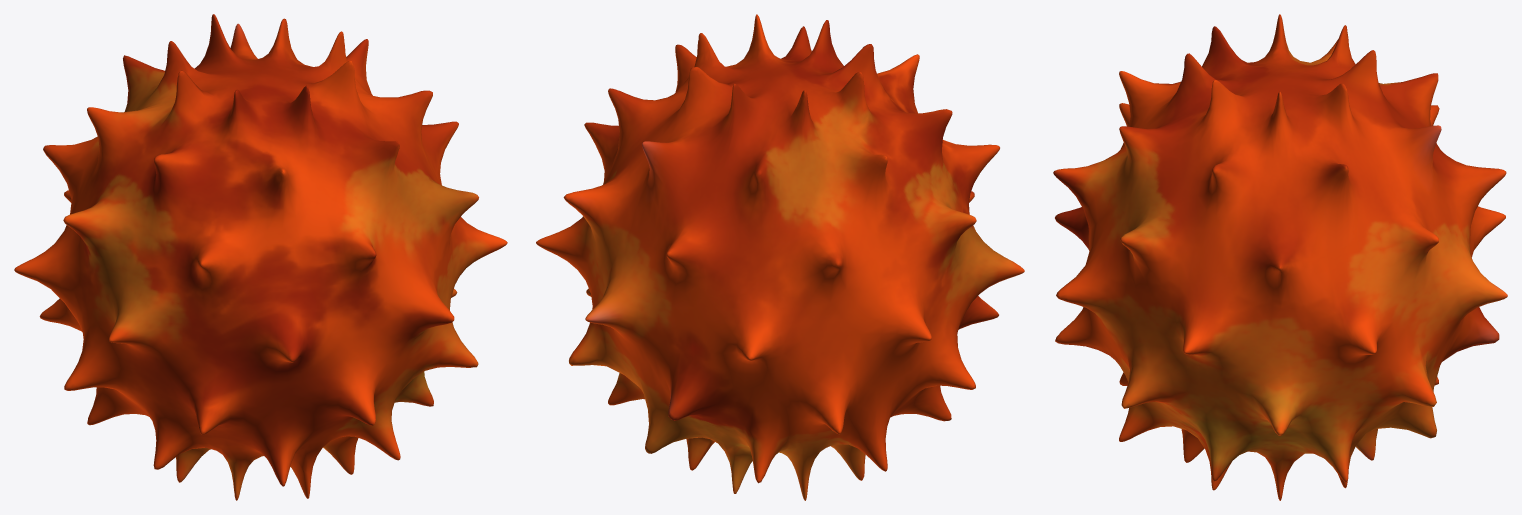
The model's file is Virus_01.fbx.
The picture shows the model from 3 angles, left to right: view 1: azimuth 30°, elevation 25°; view 2: azimuth 150°, elevation 25°; view 3: azimuth 270°, elevation 25°; orthographic projection.
Visible parts, largest first — view 1: Virus_01; view 2: Virus_01; view 3: Virus_01.
Part boxes in pixels (box(x1,y1,x2,y2)): Virus_01: box(14, 14, 507, 500); Virus_01: box(536, 14, 1024, 500); Virus_01: box(1053, 14, 1507, 500).
Bounding box in the file's own units: 3.92 × 3.92 × 3.91.
1 material, 1 textured.
